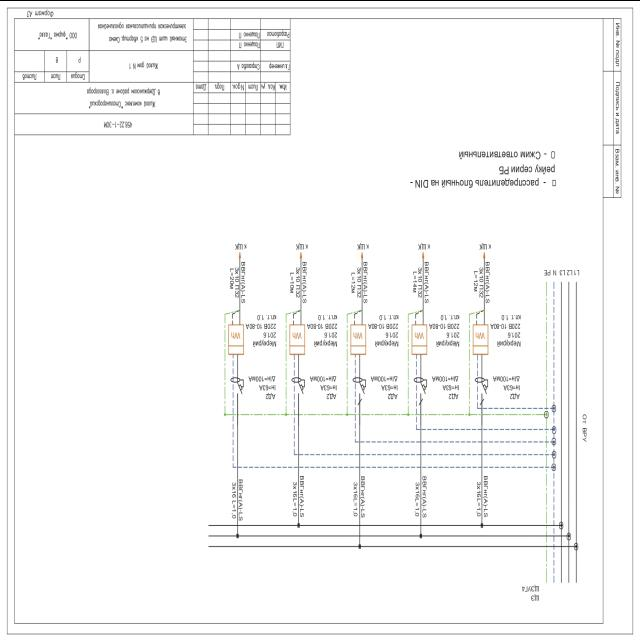-: (428, 312, 461, 348), (490, 312, 522, 348), (368, 312, 400, 348), (244, 311, 276, 347), (306, 312, 338, 348), (369, 373, 398, 391), (431, 372, 460, 390), (309, 373, 338, 391), (492, 372, 520, 390), (248, 374, 276, 392), (520, 582, 540, 592)
QFD: (352, 375, 368, 406), (474, 375, 490, 406), (413, 376, 429, 406), (230, 374, 246, 400), (290, 376, 306, 400)
WH: (350, 322, 368, 357), (289, 322, 307, 356), (472, 322, 490, 356), (412, 322, 429, 357), (228, 322, 245, 356)
